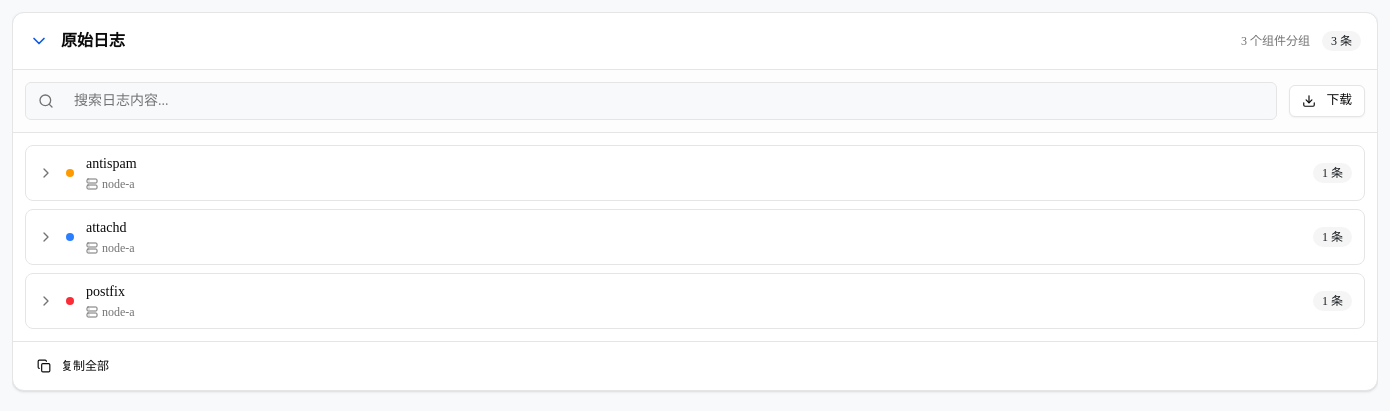
Test: RawLogsSection › filtered line numbers are renumbered contiguously 1..N of matches (gap 3.3)
Type "DELIVERY" into the field with test id "disposal-raw-logs-search" at (663, 101), box [62, 83, 1264, 119]
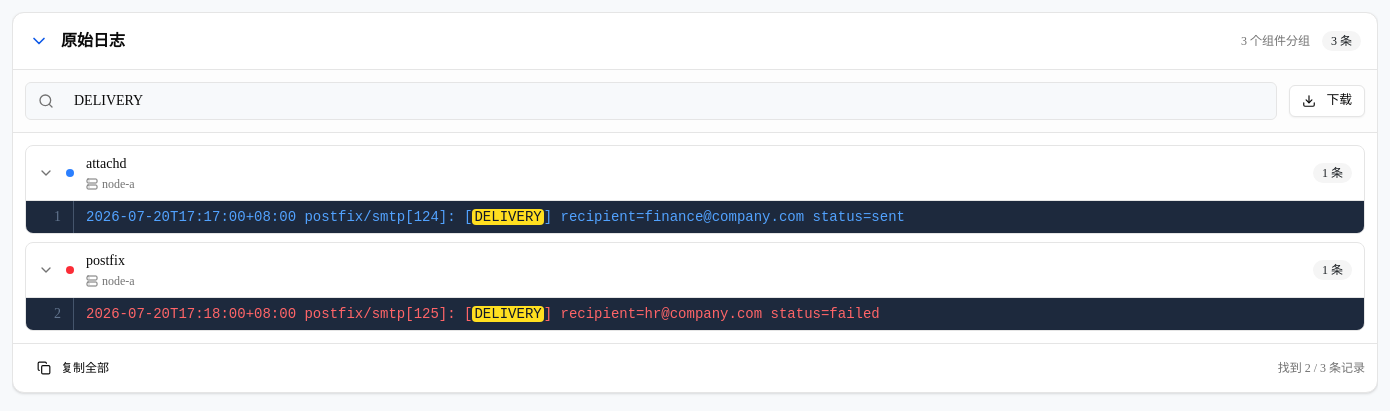
Expected: the element with test id "^raw-log-line-\\d+$" shows "1", [54, 209, 61, 224]
Expected: the element with test id "^raw-log-line-\\d+$" shows "2", [54, 306, 61, 321]
Expected: the element with test id "^raw-log-line-\\d+$" shows "[DELIVERY]", [86, 209, 472, 225]
